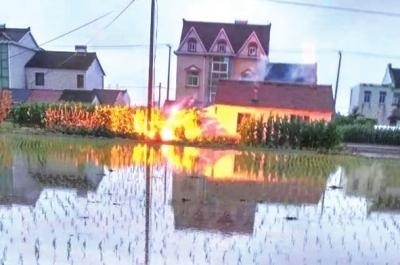fire: (128, 102, 205, 141)
